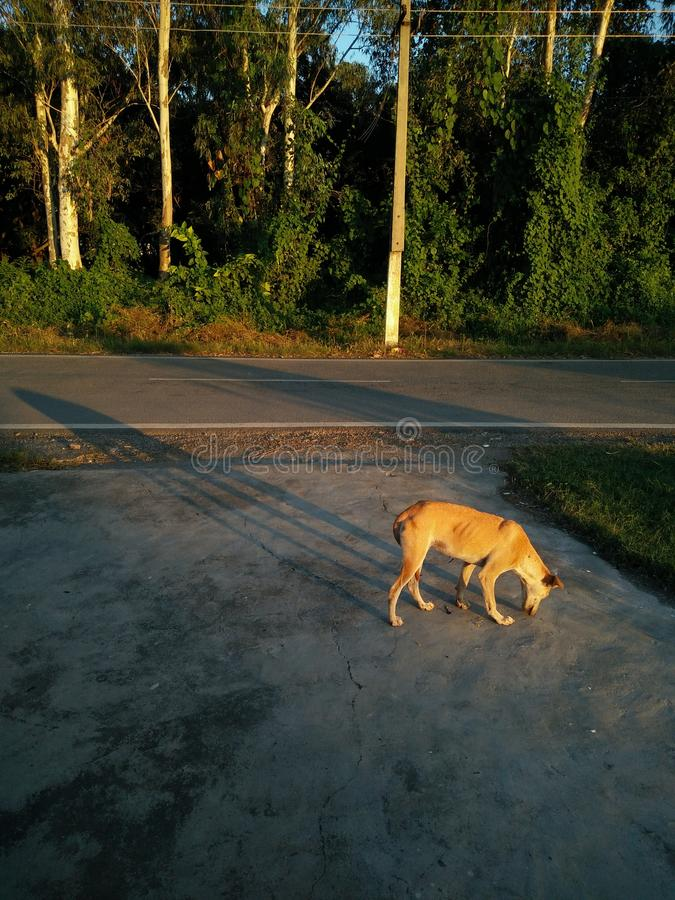nontarget: (378, 484, 574, 634)
